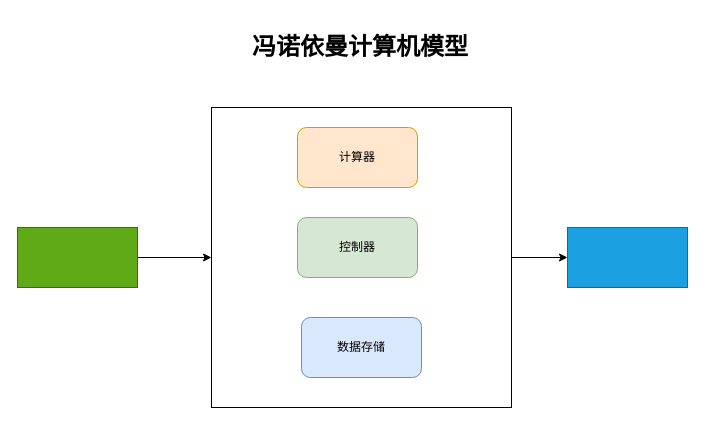
Some shapes in this 705 by 425 pixel diagram are drawn without their labels. The centre of each missing label's shape, as x and y in pixels:
"输入设备" goes at (x=77, y=257).
"输出设备" goes at (x=627, y=257).
